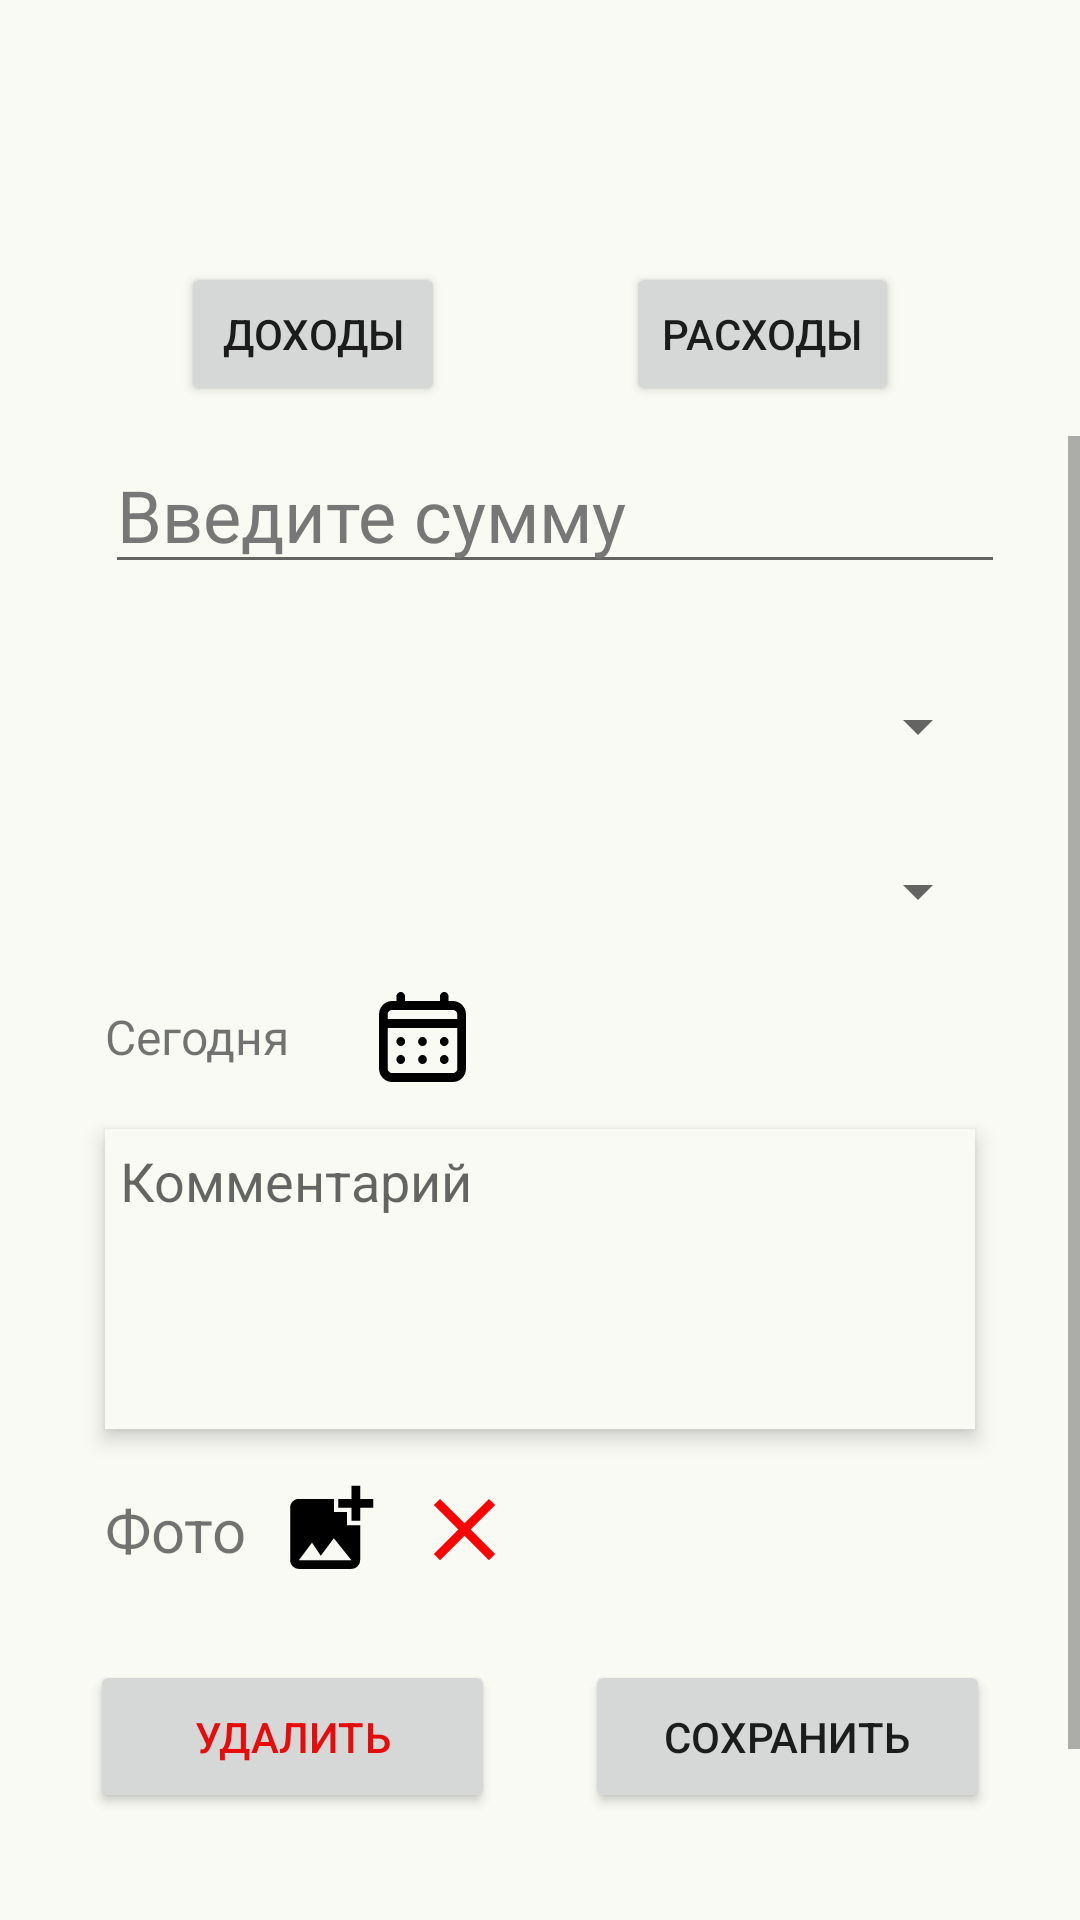

Named icons in this screenshot (1080px x 1920px) and their bounding boxes, (x1, y1, x2, y2):
add photo: (290, 1485, 374, 1569)
calendar: (379, 992, 466, 1082)
clear: (434, 1499, 495, 1560)
